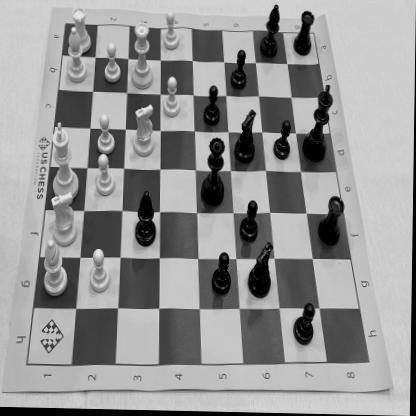black-bishop: (134, 191, 160, 252), (258, 4, 282, 62)
black-king: (302, 80, 336, 162)
black-knight: (248, 235, 276, 304), (232, 107, 258, 167)
black-pawn: (292, 301, 318, 348), (210, 250, 233, 300), (239, 196, 261, 244), (228, 47, 249, 94), (272, 119, 294, 163), (202, 83, 222, 128)
black-queen: (200, 132, 228, 210)
black-rook: (318, 192, 348, 254), (292, 8, 316, 60)
white-bishop: (40, 241, 72, 301), (64, 25, 90, 87)
white-king: (49, 120, 81, 206)
white-knight: (52, 192, 78, 250), (132, 104, 156, 160)
white-pawn: (86, 247, 113, 296), (94, 154, 119, 200), (96, 113, 118, 158), (161, 77, 183, 121), (161, 8, 182, 54), (102, 41, 123, 86)
white-queen: (128, 20, 156, 93)
white-rook: (68, 5, 94, 58)
